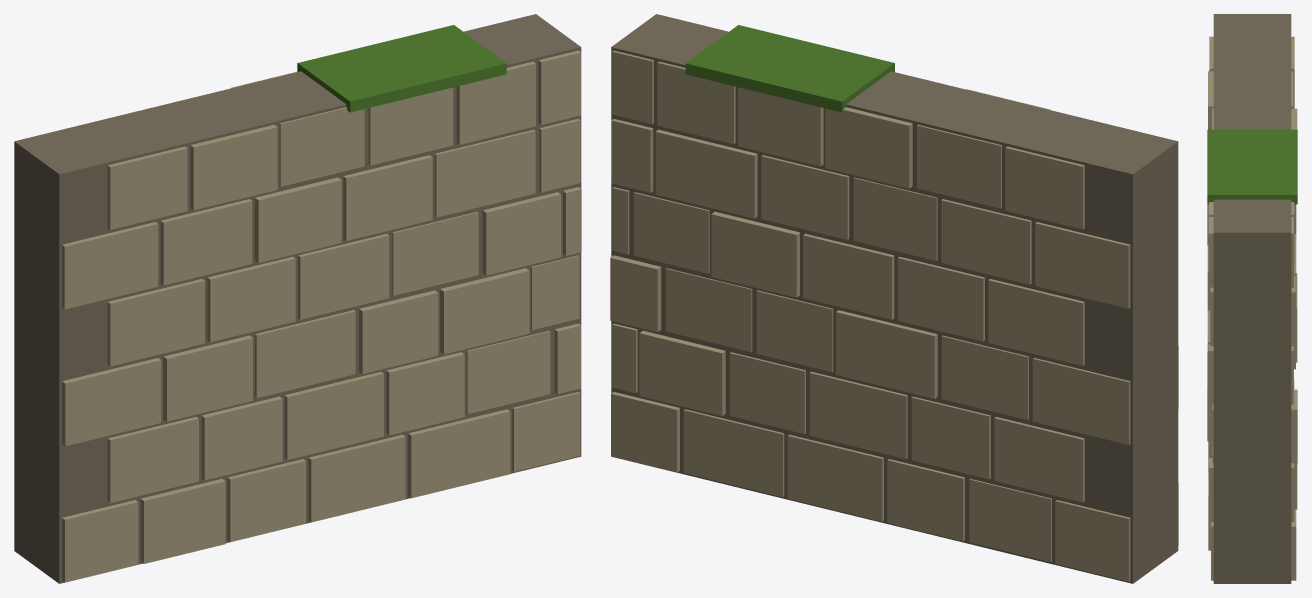
The model's file is wall_straight.glb.
The picture shows the model from 3 angles, left to right: view 1: azimuth 30°, elevation 25°; view 2: azimuth 150°, elevation 25°; view 3: azimuth 270°, elevation 25°; orthographic projection. The views are drawn at different scales.
Visible parts, largest first — view 1: stone_temple, stone_temple_dark-col, moss; view 2: stone_temple, stone_temple_dark-col, moss; view 3: stone_temple_dark-col, moss, stone_temple.
Boxes of the visible parts, <box> form: stone_temple: <box>62,50,581,582</box>; stone_temple_dark-col: <box>14,14,581,583</box>; moss: <box>297,25,506,112</box>; stone_temple: <box>610,50,1178,581</box>; stone_temple_dark-col: <box>611,14,1178,583</box>; moss: <box>685,25,894,112</box>; stone_temple_dark-col: <box>1213,14,1291,583</box>; moss: <box>1207,129,1297,204</box>; stone_temple: <box>1207,36,1297,580</box>.
Bounding box in the file's own units: 4 × 3.04 × 0.7.
